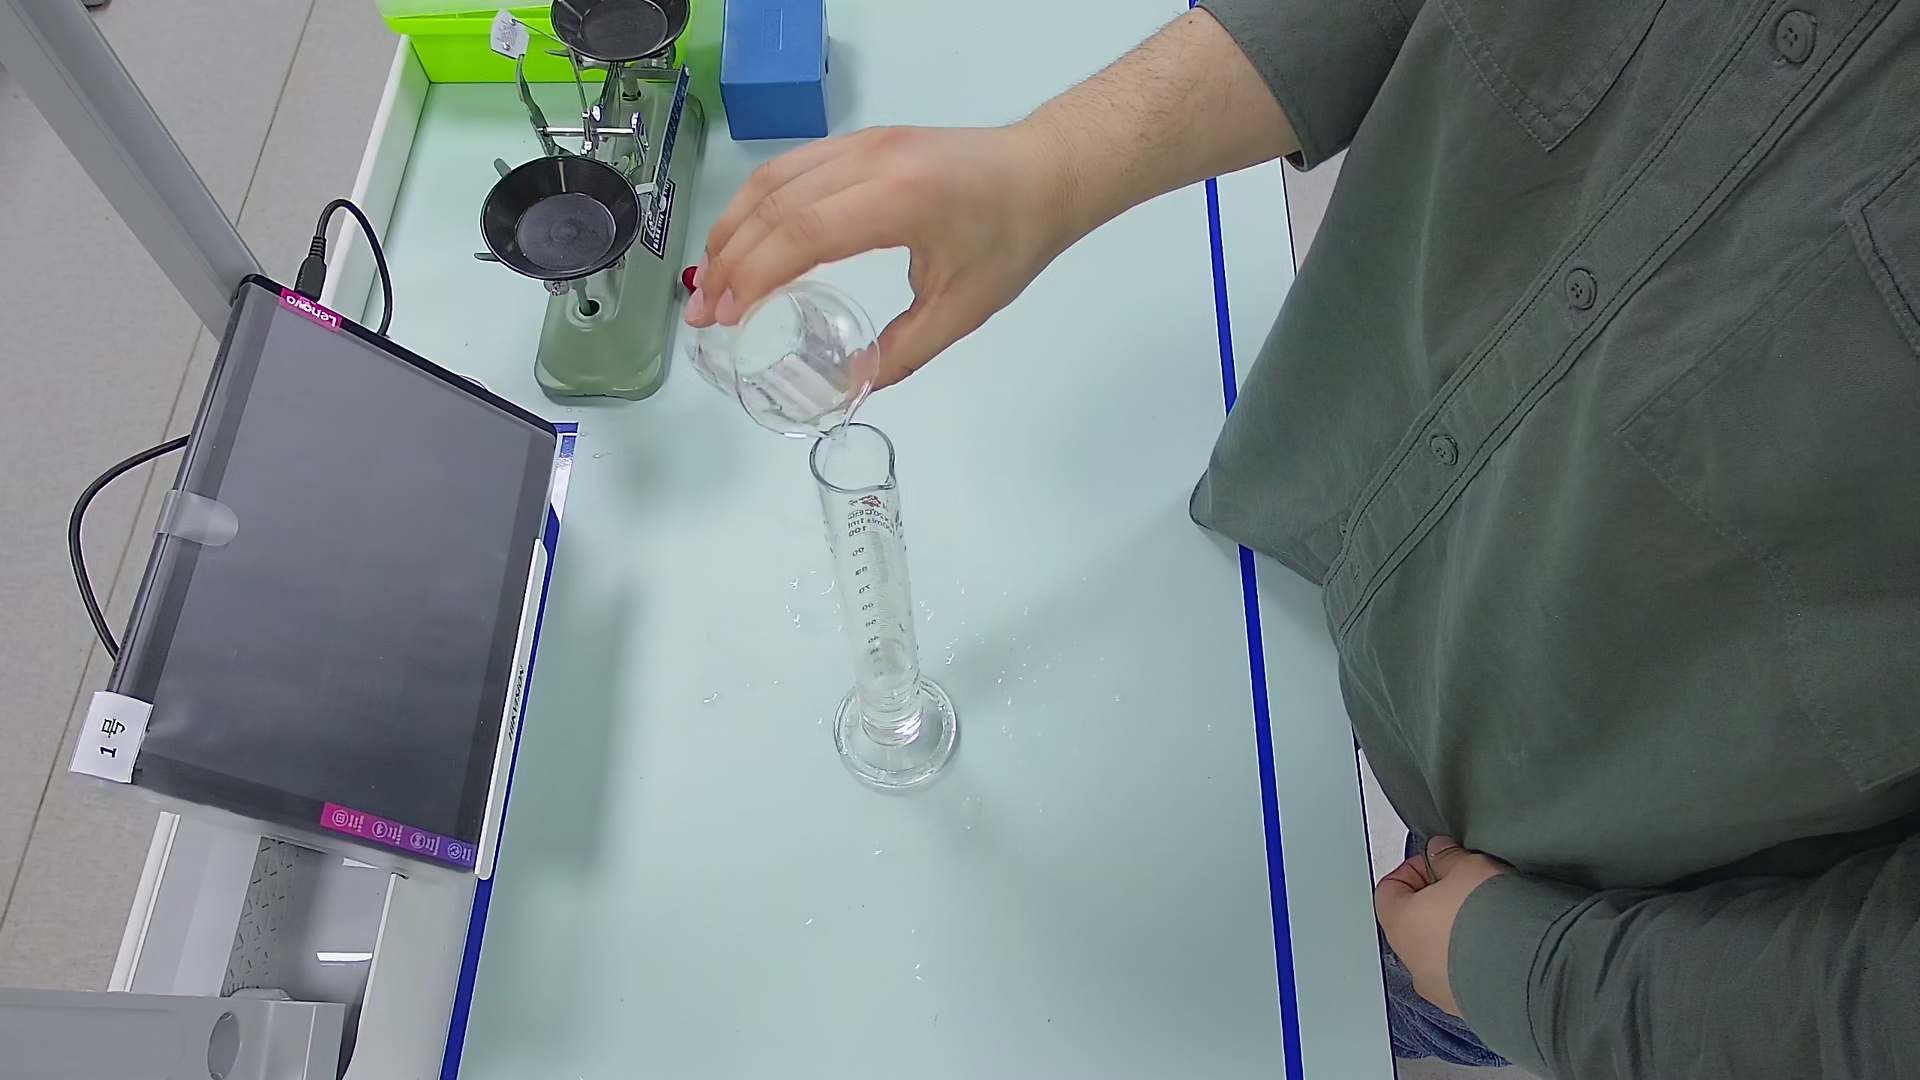ao: (855, 641, 913, 683)
bei: (683, 269, 884, 439)
hand: (692, 127, 1010, 378), (1370, 839, 1501, 1039)
liangdi: (837, 676, 961, 787)
liangtong: (808, 419, 961, 789)
tuo: (477, 152, 655, 291), (550, 1, 690, 59)
